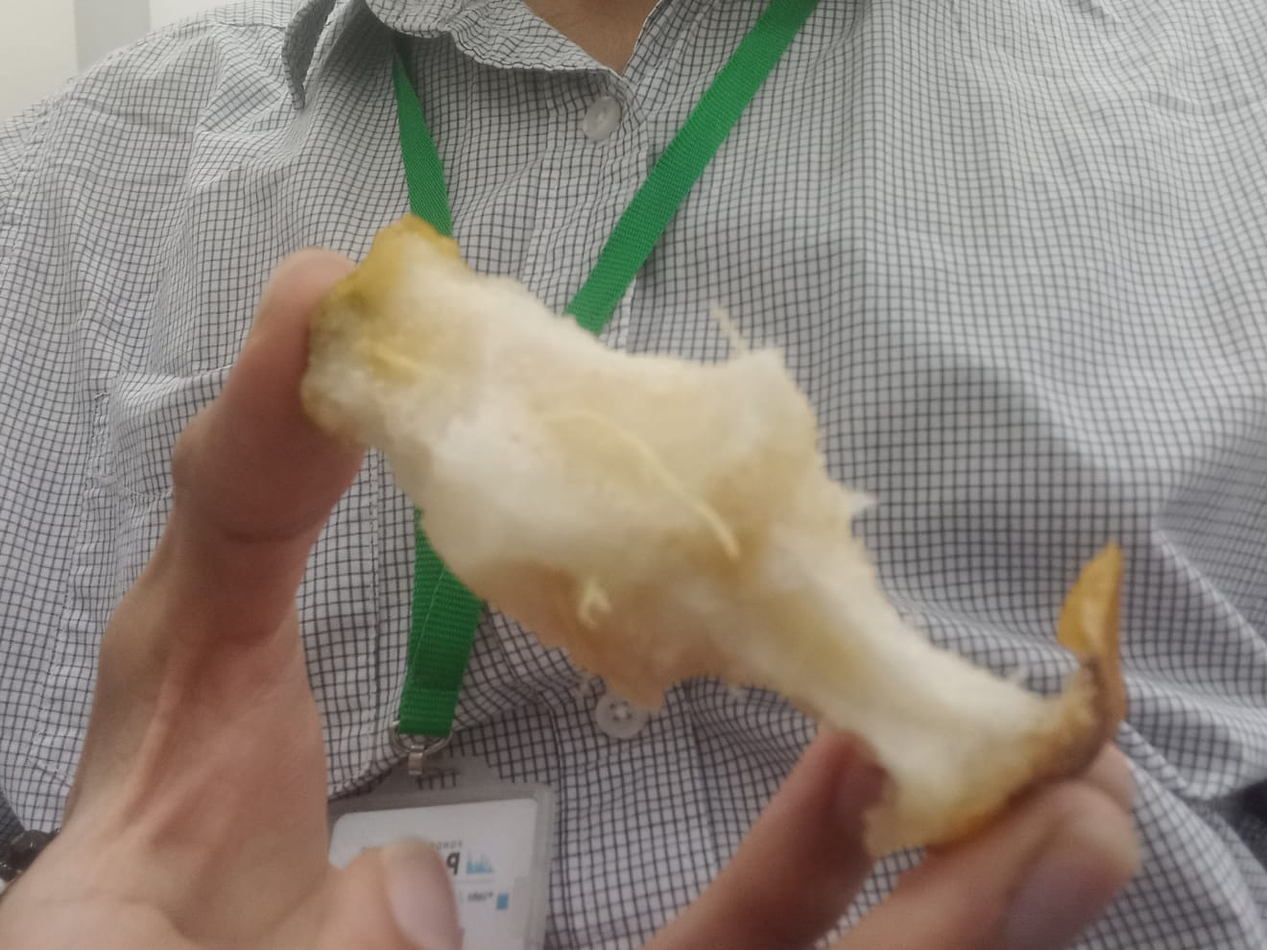Organico: (300, 217, 1129, 863)
